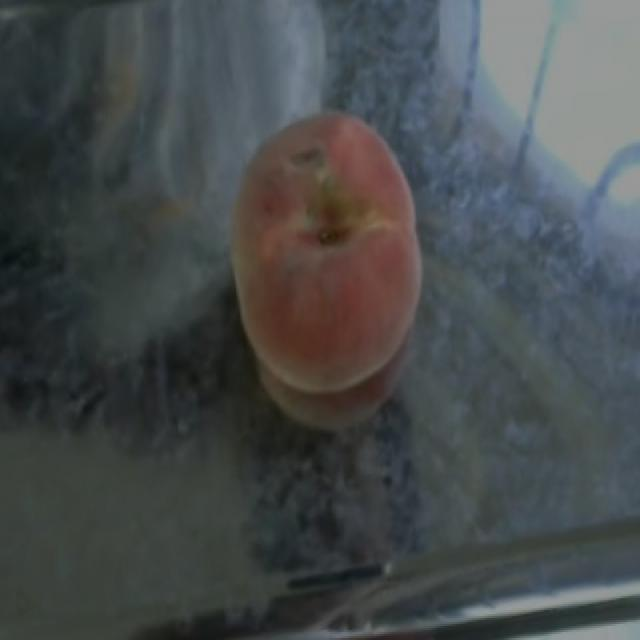Fruit: (192, 88, 451, 418)
